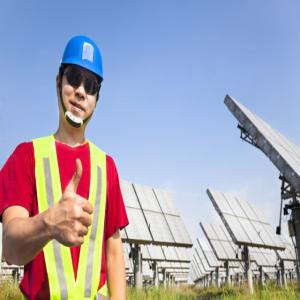blue: (56, 36, 105, 127)
